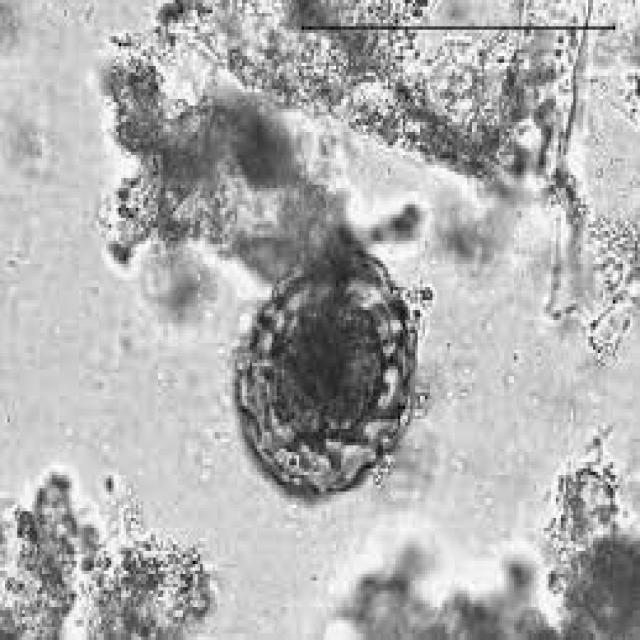Ascaris Lumbricoides: (225, 249, 417, 510)
